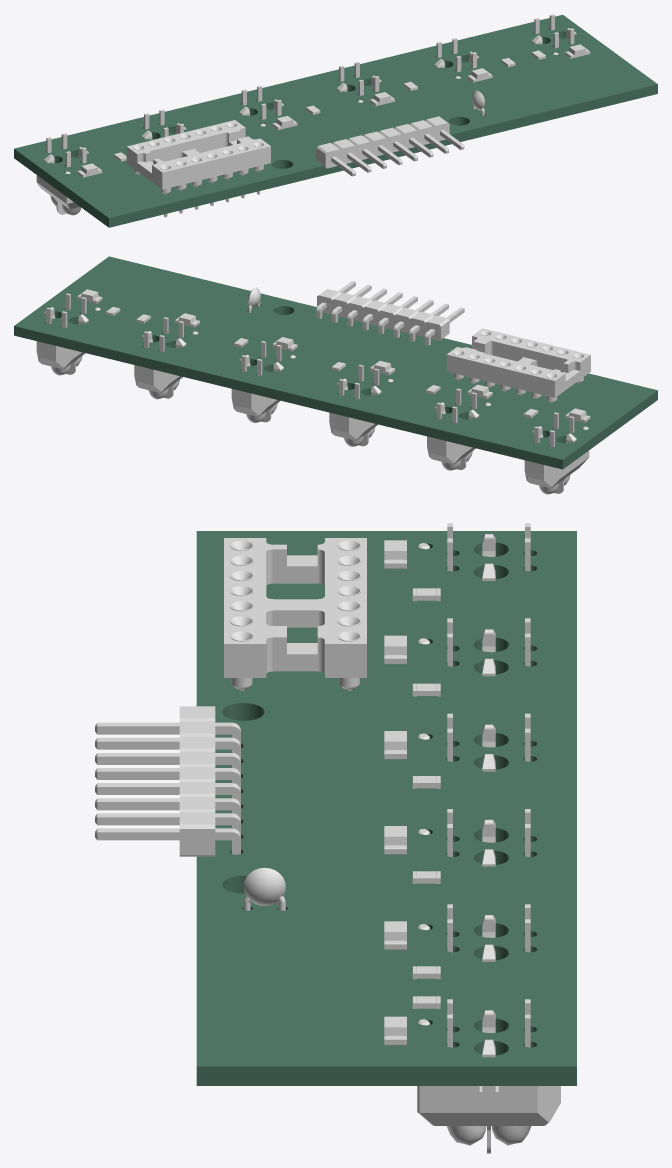
File: modulo_sensor-3D.glb
The picture shows the model from 3 angles, top to bottom: view 1: azimuth 30°, elevation 25°; view 2: azimuth 150°, elevation 25°; view 3: azimuth 270°, elevation 25°; orthographic projection. The views are drawn at different scales.
Parts seen in each view (by area): view 1: =>[0:1:1:8], U1, J1, Sensor1, Sensor6, Sensor4, Sensor3, Sensor5, Sensor2; view 2: =>[0:1:1:8], U1, J1, Sensor1, Sensor6, Sensor2, Sensor4, Sensor5, Sensor3; view 3: =>[0:1:1:8], U1, J1, Sensor6, C1, Sensor2, Sensor3, Sensor4, Sensor5, Sensor1.
Part boxes in pixels (x1,y1,x2,y2): =>[0:1:1:8]: (14,14,657,227); U1: (126,120,270,217); J1: (316,116,464,176); Sensor1: (36,133,88,215); Sensor6: (532,14,576,54); Sensor4: (336,62,381,102); Sensor3: (239,85,283,126); Sensor5: (434,38,479,78); Sensor2: (141,109,186,139); =>[0:1:1:8]: (14,256,657,469); U1: (446,328,590,402); J1: (316,281,464,345); Sensor1: (524,412,589,494); Sensor6: (36,293,100,375); Sensor2: (427,388,490,470); Sensor4: (231,341,295,422); Sensor5: (134,317,198,399); Sensor3: (329,365,393,446); =>[0:1:1:8]: (196,531,576,1085); U1: (224,538,366,690); J1: (95,706,240,856); Sensor6: (417,999,560,1153); C1: (243,867,285,910); Sensor2: (418,618,530,676); Sensor3: (418,713,530,771); Sensor4: (418,809,530,866); Sensor5: (418,904,530,961); Sensor1: (418,523,530,580).
Bounding box in the file's own units: 0.09 × 0.0129 × 0.0342.
